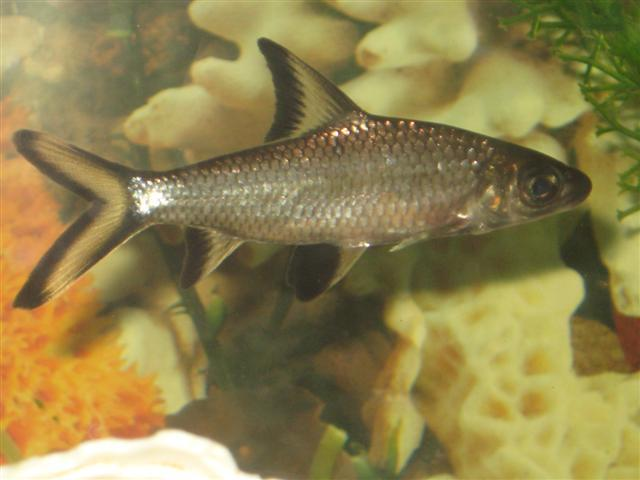Mulut: (521, 158, 607, 234)
Sirip Anal: (162, 209, 260, 306)
Sirip Dada: (378, 210, 452, 278)
Sirip Ekor: (0, 106, 178, 319)
Sirip Perut: (271, 224, 381, 310)
Sirip Punggung: (240, 24, 382, 168)
